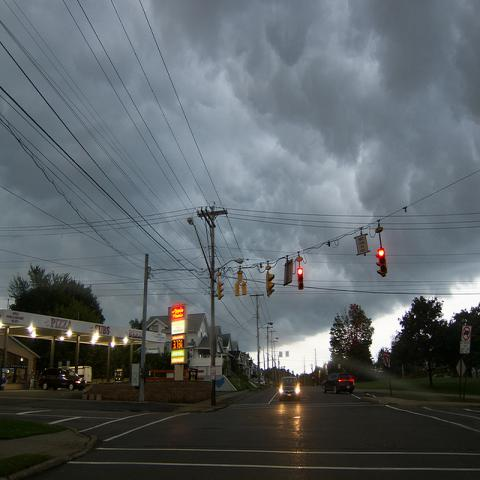car: (322, 373, 355, 394), (279, 377, 300, 400), (250, 378, 265, 386)
truck: (38, 366, 87, 390)
